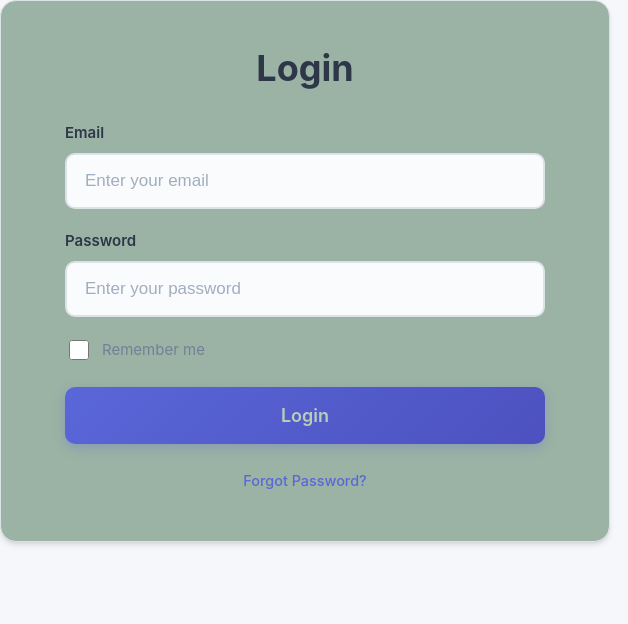
Test case: LoginForm › form validation › should clear email error when user starts typing
// Submit empty form to trigger errors
Click the button with test id "login-submit": (305, 415) [65,387,545,444]
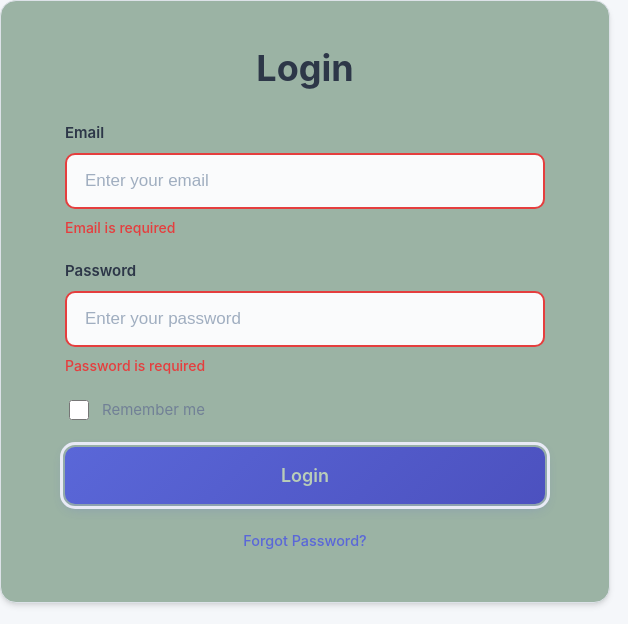
Check: the text "Email is required" is shown, box [65,219,175,236]
// Start typing in email field
In the field with test id "email-input": (305, 181) [65,153,545,209], type "t"
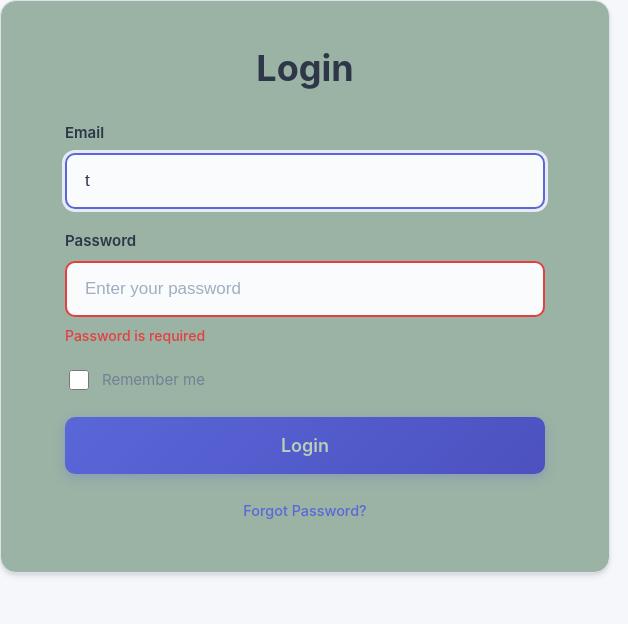
Check: the text "Email is required" is gone
